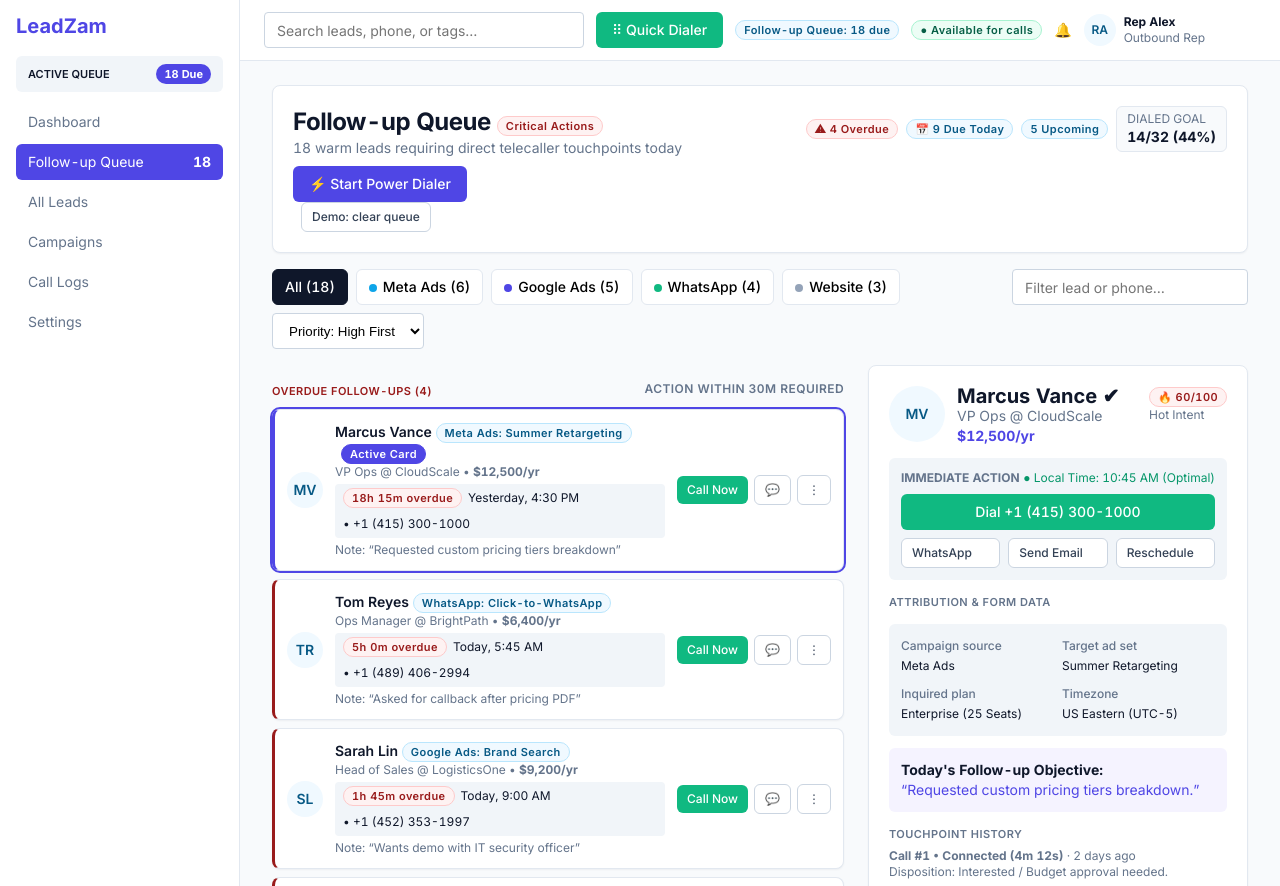
Test: Follow-up Queue › blocks saving until the form is valid, then advances the queue
Expected: the text "Overdue follow-ups (4)" is shown, [272,381,432,401]
Click the 1st button "Call Now" at (713, 490), box [677,476,748,504]
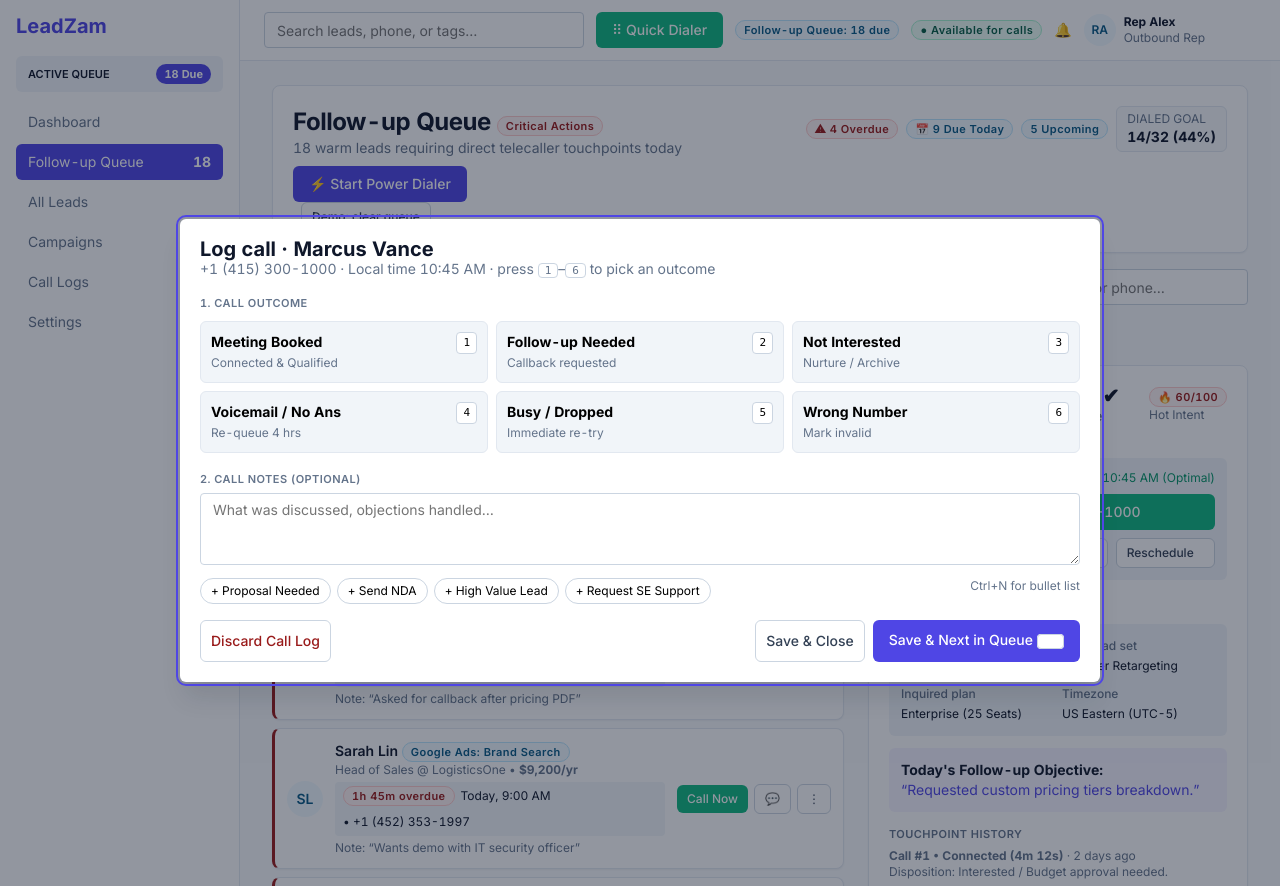
Click the button "Save & Close" at (810, 640), box [755,620,865,662]
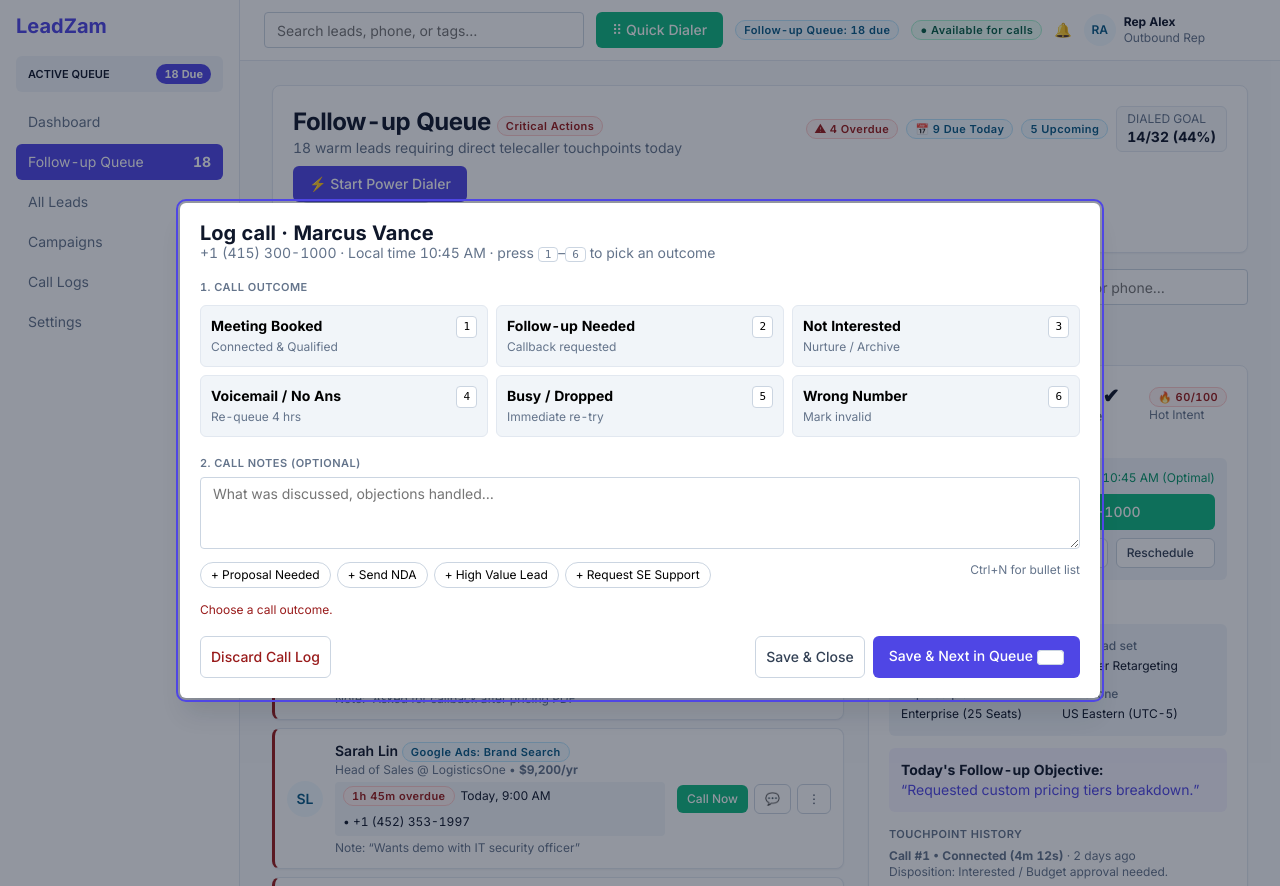
Expected: the message shows "Choose a call outcome", [200,602,332,616]
Press 4 in the dialog, box [180,202,1100,698]
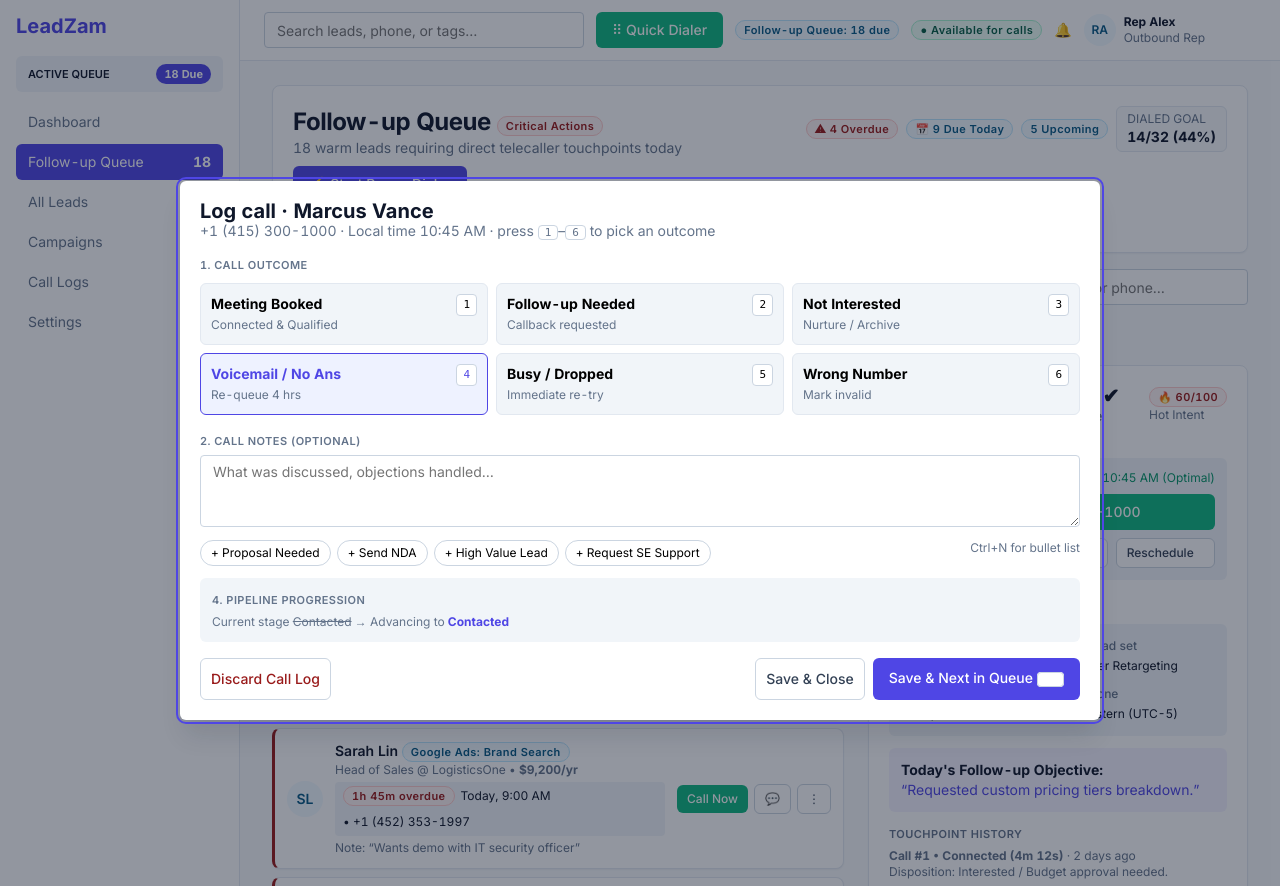
Click the button "Save & Next in Queue ⇧↵" at (976, 678), box [873,658,1080,700]
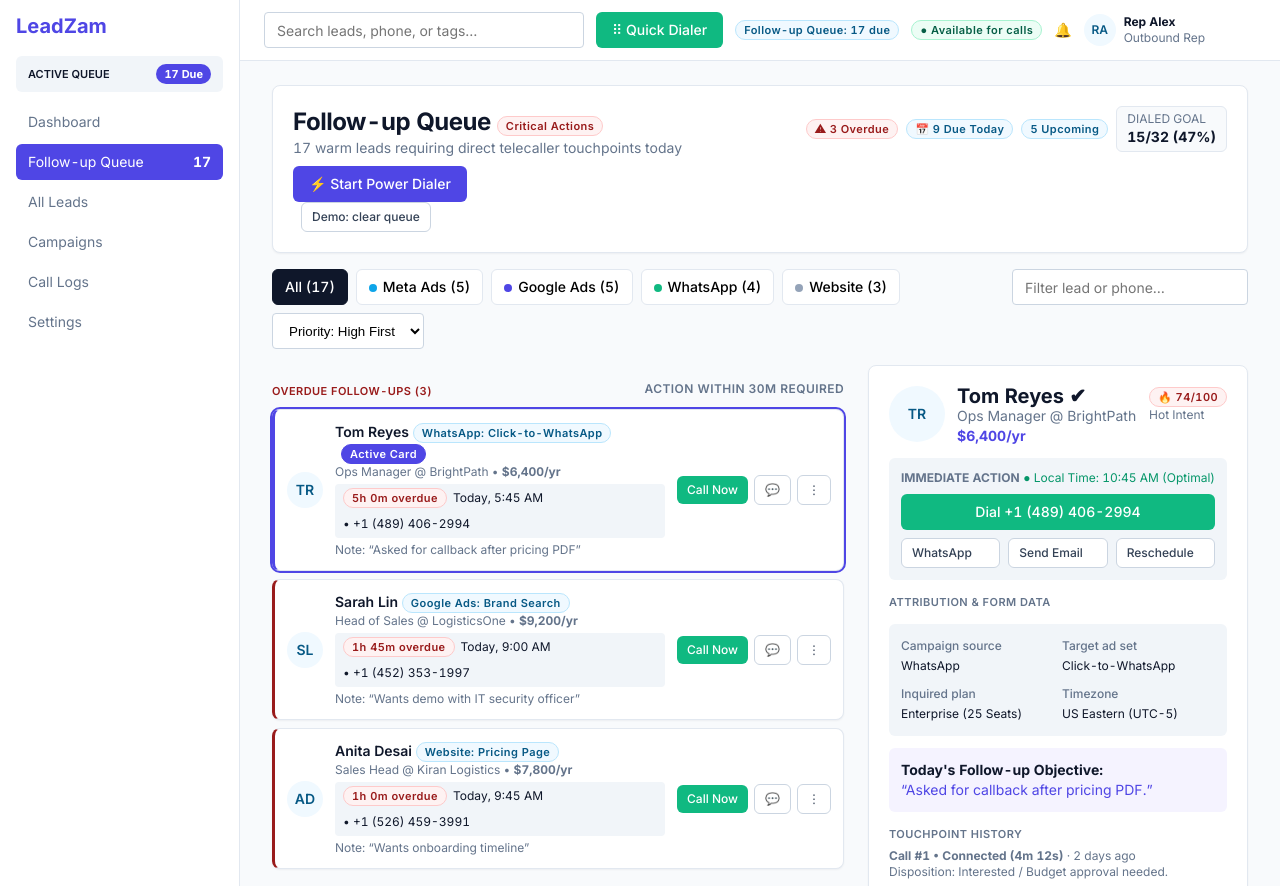
Expected: the dialog is gone
Expected: the text "15/32 (47%)" is shown, [1127,127,1216,147]
